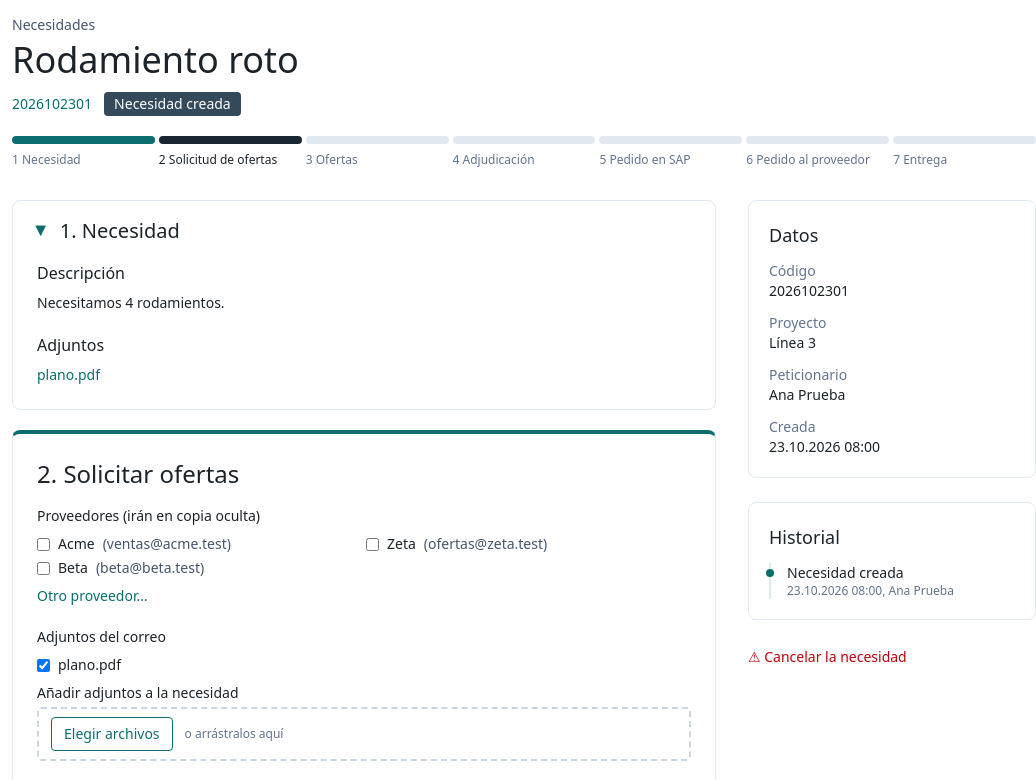
Scenario: PaginaNecesidad › con 2 proveedores dice cómo irá en SAP y con 3 ya no pide el motivo
The width and height of the screenshot is (1036, 780).
Click the checkbox labelled "Acme (ventas@acme.test)": (44, 544) [37,538,50,550]
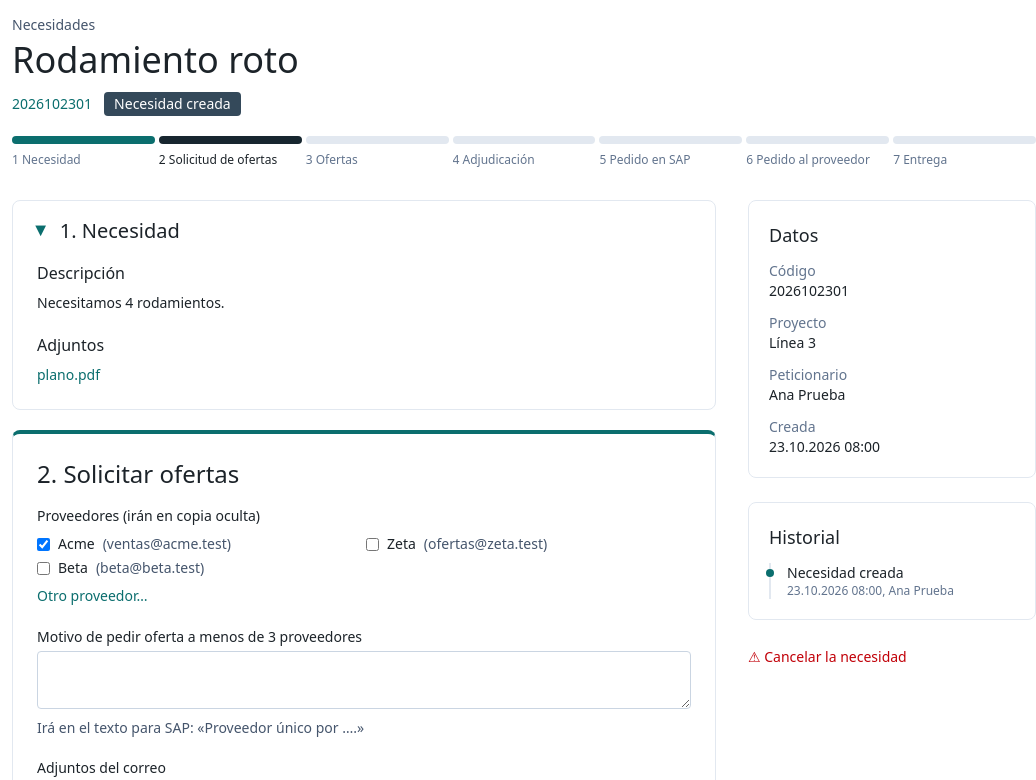
Click the checkbox labelled "Zeta (ofertas@zeta.test)": (372, 544) [366,538,379,550]
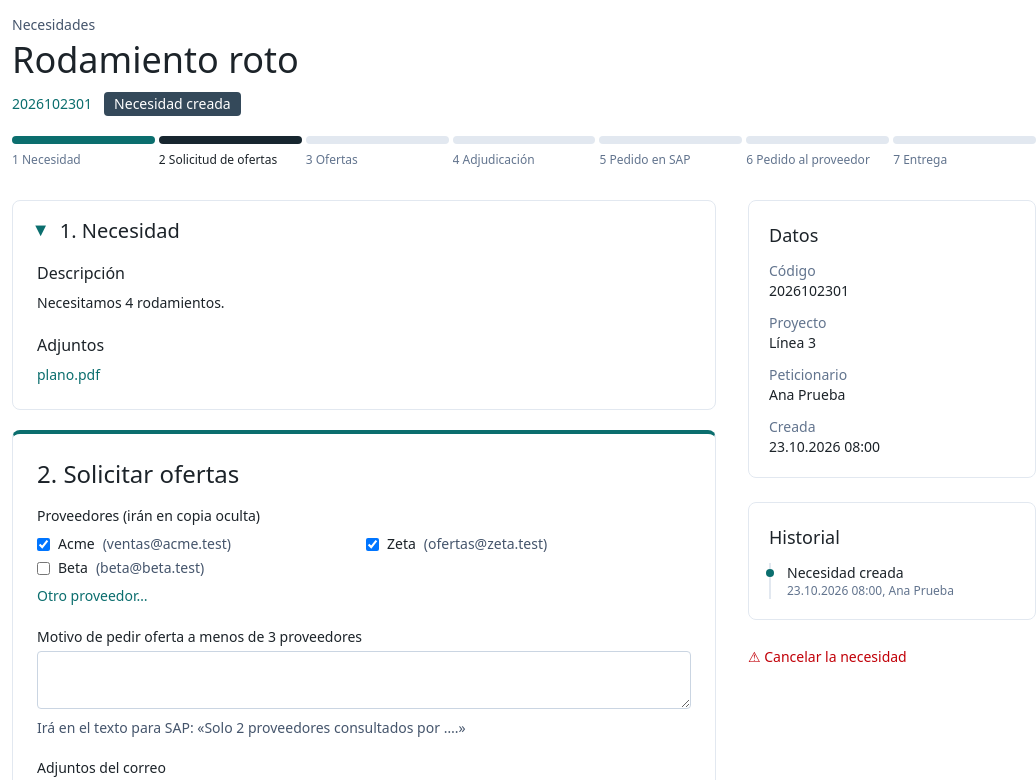
Result: the text "Irá en el texto para SAP: «Solo 2 proveedores consultados por ….»" is shown at [37,718,466,737]
Click the checkbox labelled "Beta (beta@beta.test)": (44, 568) [37,562,50,574]
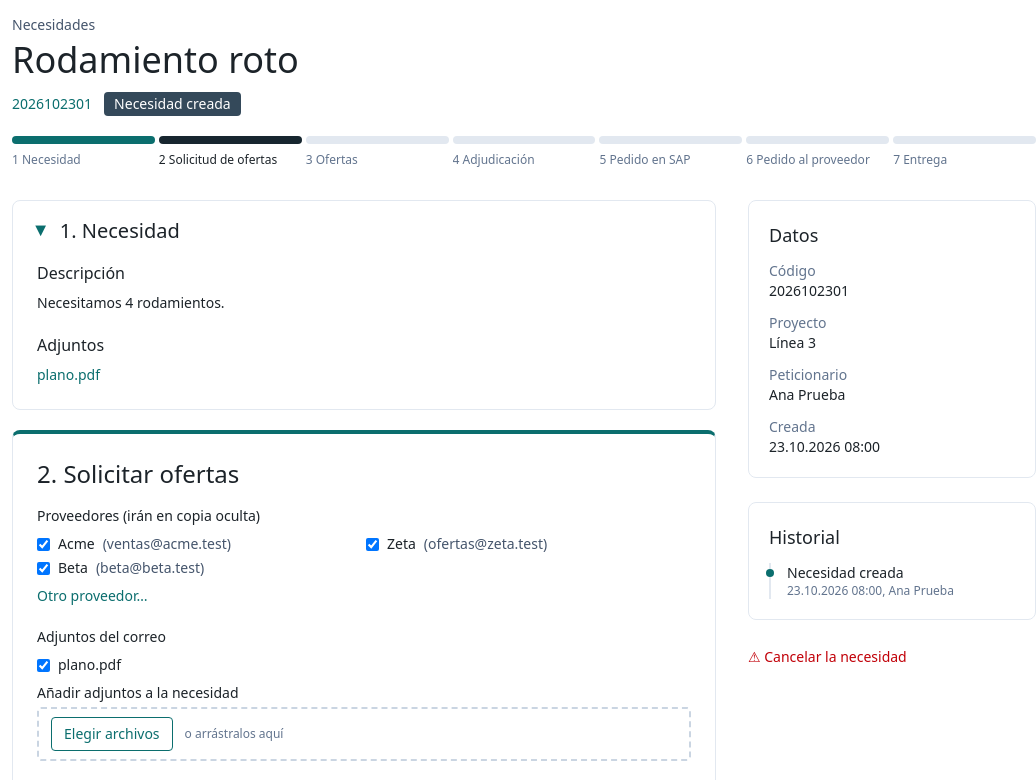
Result: the label labelled "Motivo de pedir oferta a menos de 3 proveedores" is gone
